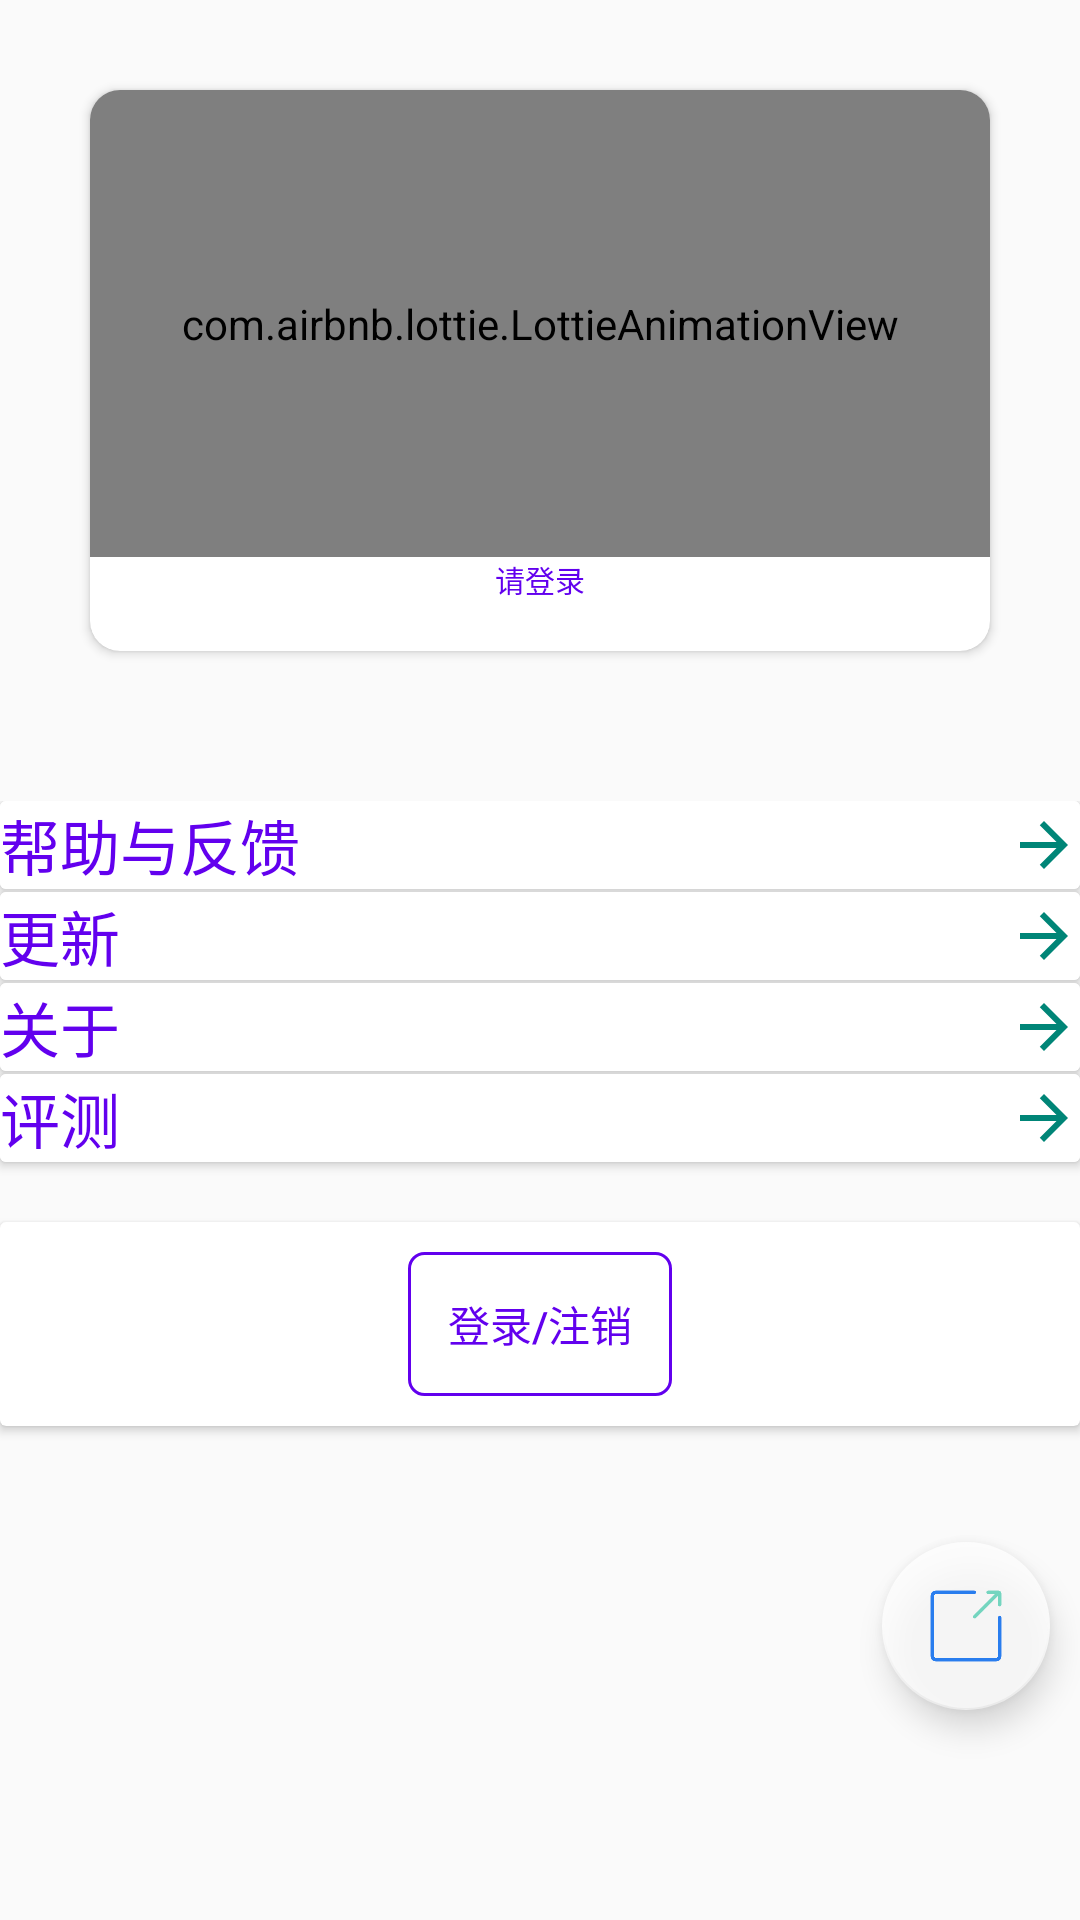

Where to tap for icons on this 1080px x 1920px app screen, as (x,y):
share: (974,1634)
